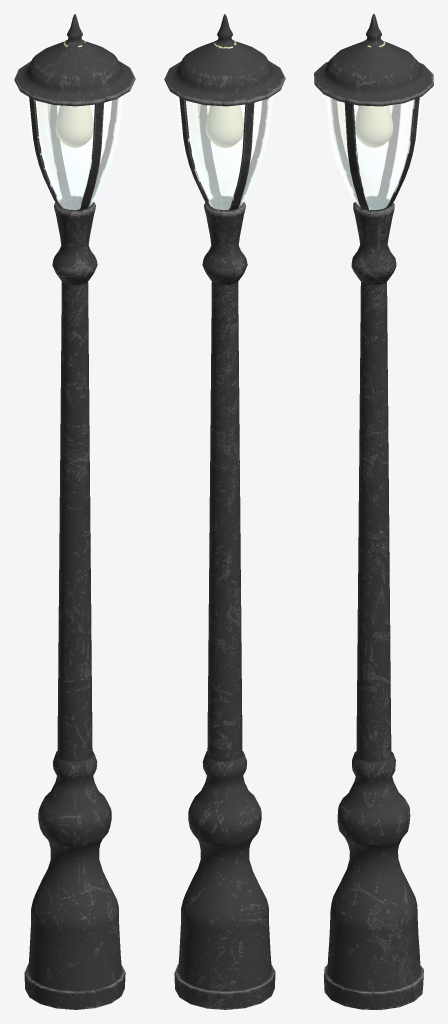
File: lamp.gltf
3 renders of one model, left to right at view 1: azimuth 30°, elevation 25°; view 2: azimuth 210°, elevation 25°; view 3: azimuth 330°, elevation 25°, orthographic.
Visible parts, largest first — view 1: Light_Light_shader_0; view 2: Light_Light_shader_0; view 3: Light_Light_shader_0.
Part boxes in pixels (x1,y1,x2,y2): Light_Light_shader_0: (14, 14, 135, 1009); Light_Light_shader_0: (164, 14, 285, 1009); Light_Light_shader_0: (314, 14, 433, 1009).
Bounding box in the file's own units: 0.4669 × 4.15 × 0.4568.
1 material, 1 textured.
